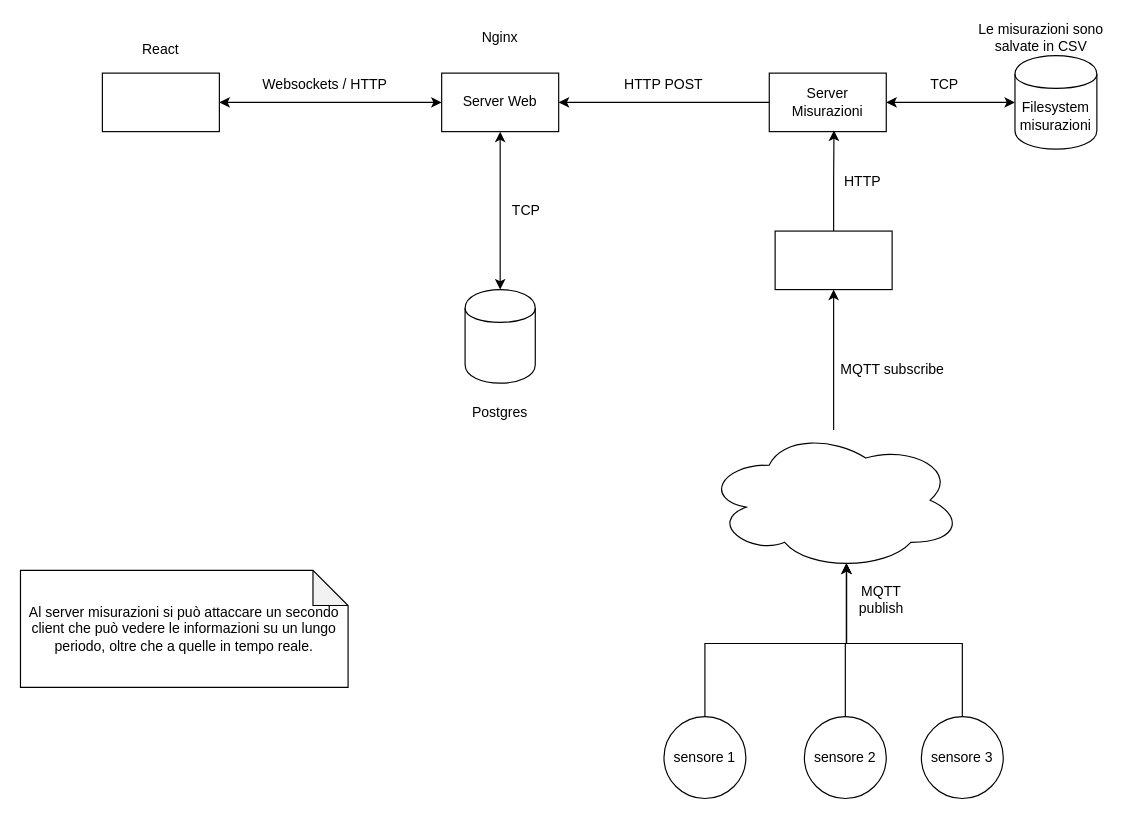
This 1141x819 diagram has some shape labels left out. The shapes that lost their labels are listed below. From the top down, each one's centre as x and y in pixels, then its label:
At pixel 160 102: "Client".
At pixel 833 260: "Subscriber".
At pixel 499 335: "DB Utenti".
At pixel 833 499: "Broker MQTT".
